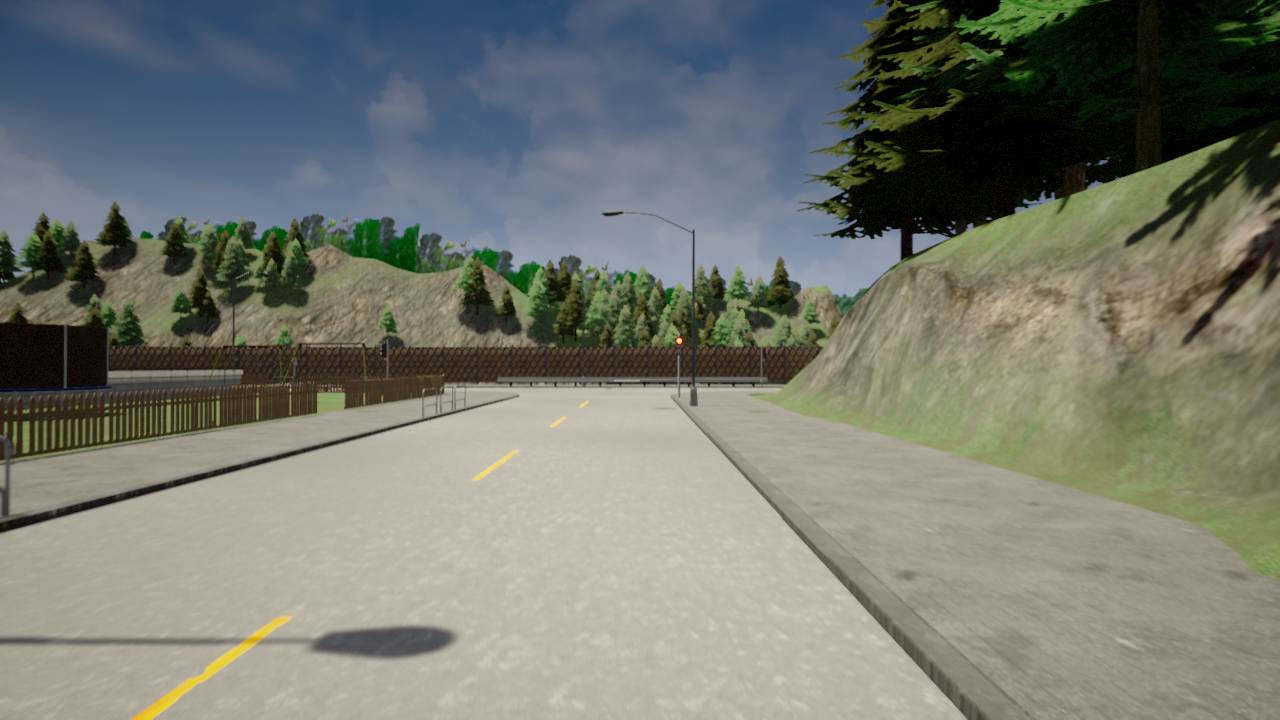red: (675, 336, 684, 356)
